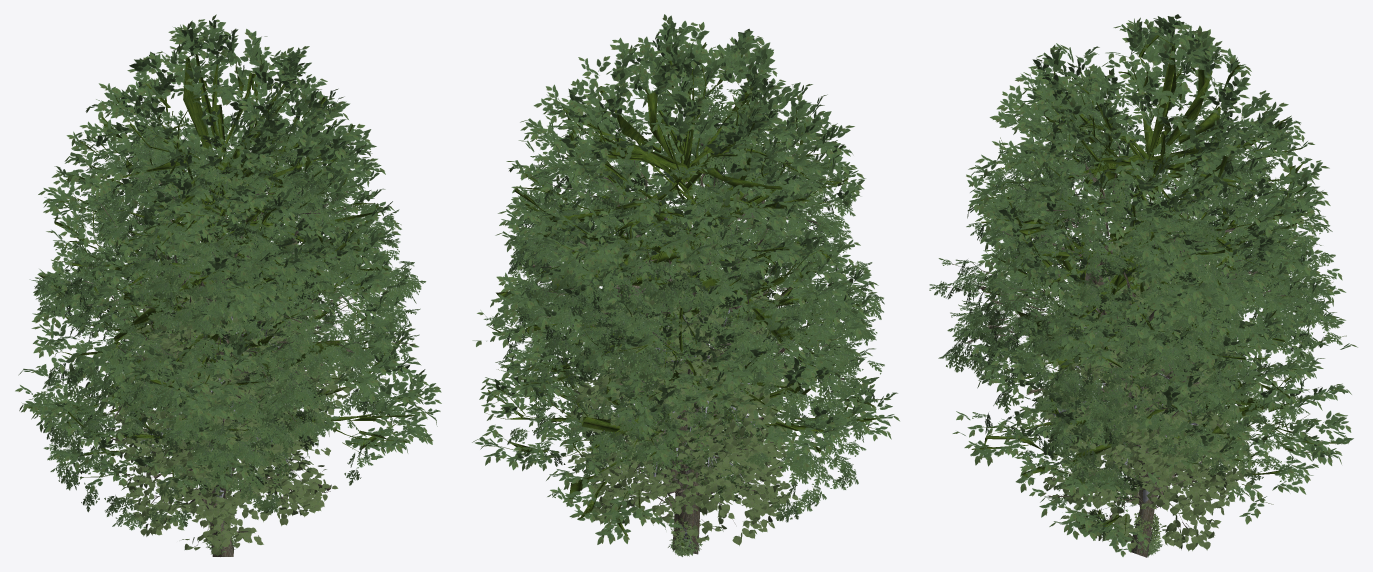
The model's file is vegetation_03.glb.
3 views of the same model, side by side, from view 1: azimuth 30°, elevation 25°; view 2: azimuth 150°, elevation 25°; view 3: azimuth 270°, elevation 25° (orthographic).
Visible parts, largest first — view 1: prototype_025, prototype_024, prototype_027, prototype_028, prototype_026; view 2: prototype_025, prototype_024, prototype_027, prototype_028, prototype_026; view 3: prototype_025, prototype_024, prototype_027, prototype_028, prototype_026.
Boxes of the visible parts, <box> form: prototype_025: <box>15,14,441,494</box>; prototype_024: <box>28,96,425,556</box>; prototype_027: <box>95,235,354,548</box>; prototype_028: <box>115,297,326,556</box>; prototype_026: <box>108,247,334,505</box>; prototype_025: <box>472,14,899,544</box>; prototype_024: <box>484,65,884,554</box>; prototype_027: <box>564,242,803,545</box>; prototype_028: <box>581,290,787,532</box>; prototype_026: <box>592,246,783,548</box>; prototype_025: <box>952,14,1357,556</box>; prototype_024: <box>929,73,1342,557</box>; prototype_027: <box>1029,232,1254,551</box>; prototype_028: <box>1037,269,1246,550</box>; prototype_026: <box>1039,252,1268,542</box>.
Size of the model in its own units: 15.4 by 20.82 by 15.2.
Materials: 14 (14 with a texture image).
